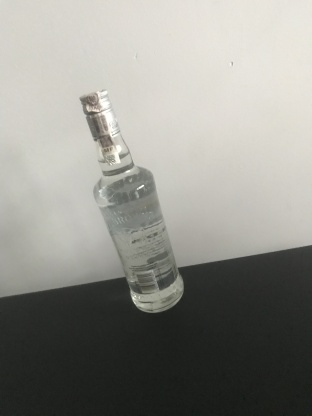nakretka: (78, 86, 121, 142)
